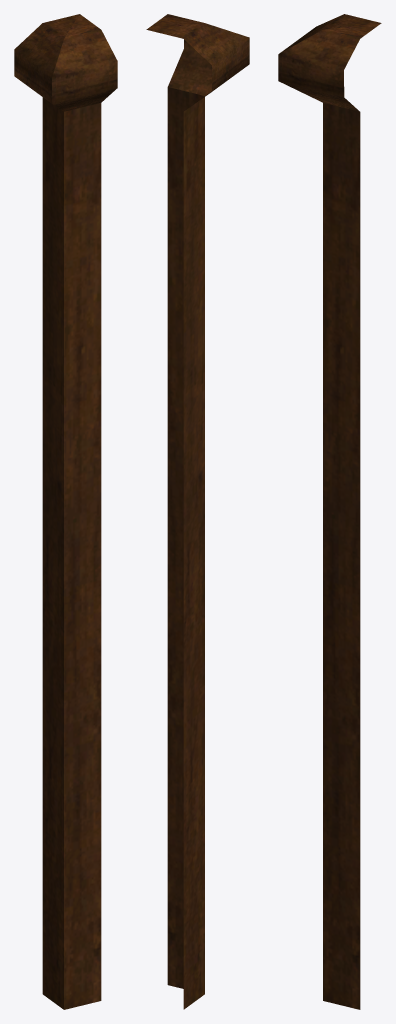
Rendered from wood_panneling_corner.DAE.
The picture shows the model from 3 angles, left to right: view 1: azimuth 30°, elevation 25°; view 2: azimuth 150°, elevation 25°; view 3: azimuth 330°, elevation 25°; orthographic projection.
Parts seen in each view (by area): view 1: Box025; view 2: Box025; view 3: Box025.
Boxes of the visible parts, bbox=[...] form: Box025: bbox=[14, 14, 117, 1009]; Box025: bbox=[146, 14, 249, 1009]; Box025: bbox=[278, 14, 381, 1009].
Bounding box in the file's own units: 0.1061 × 1.5 × 0.1061.
